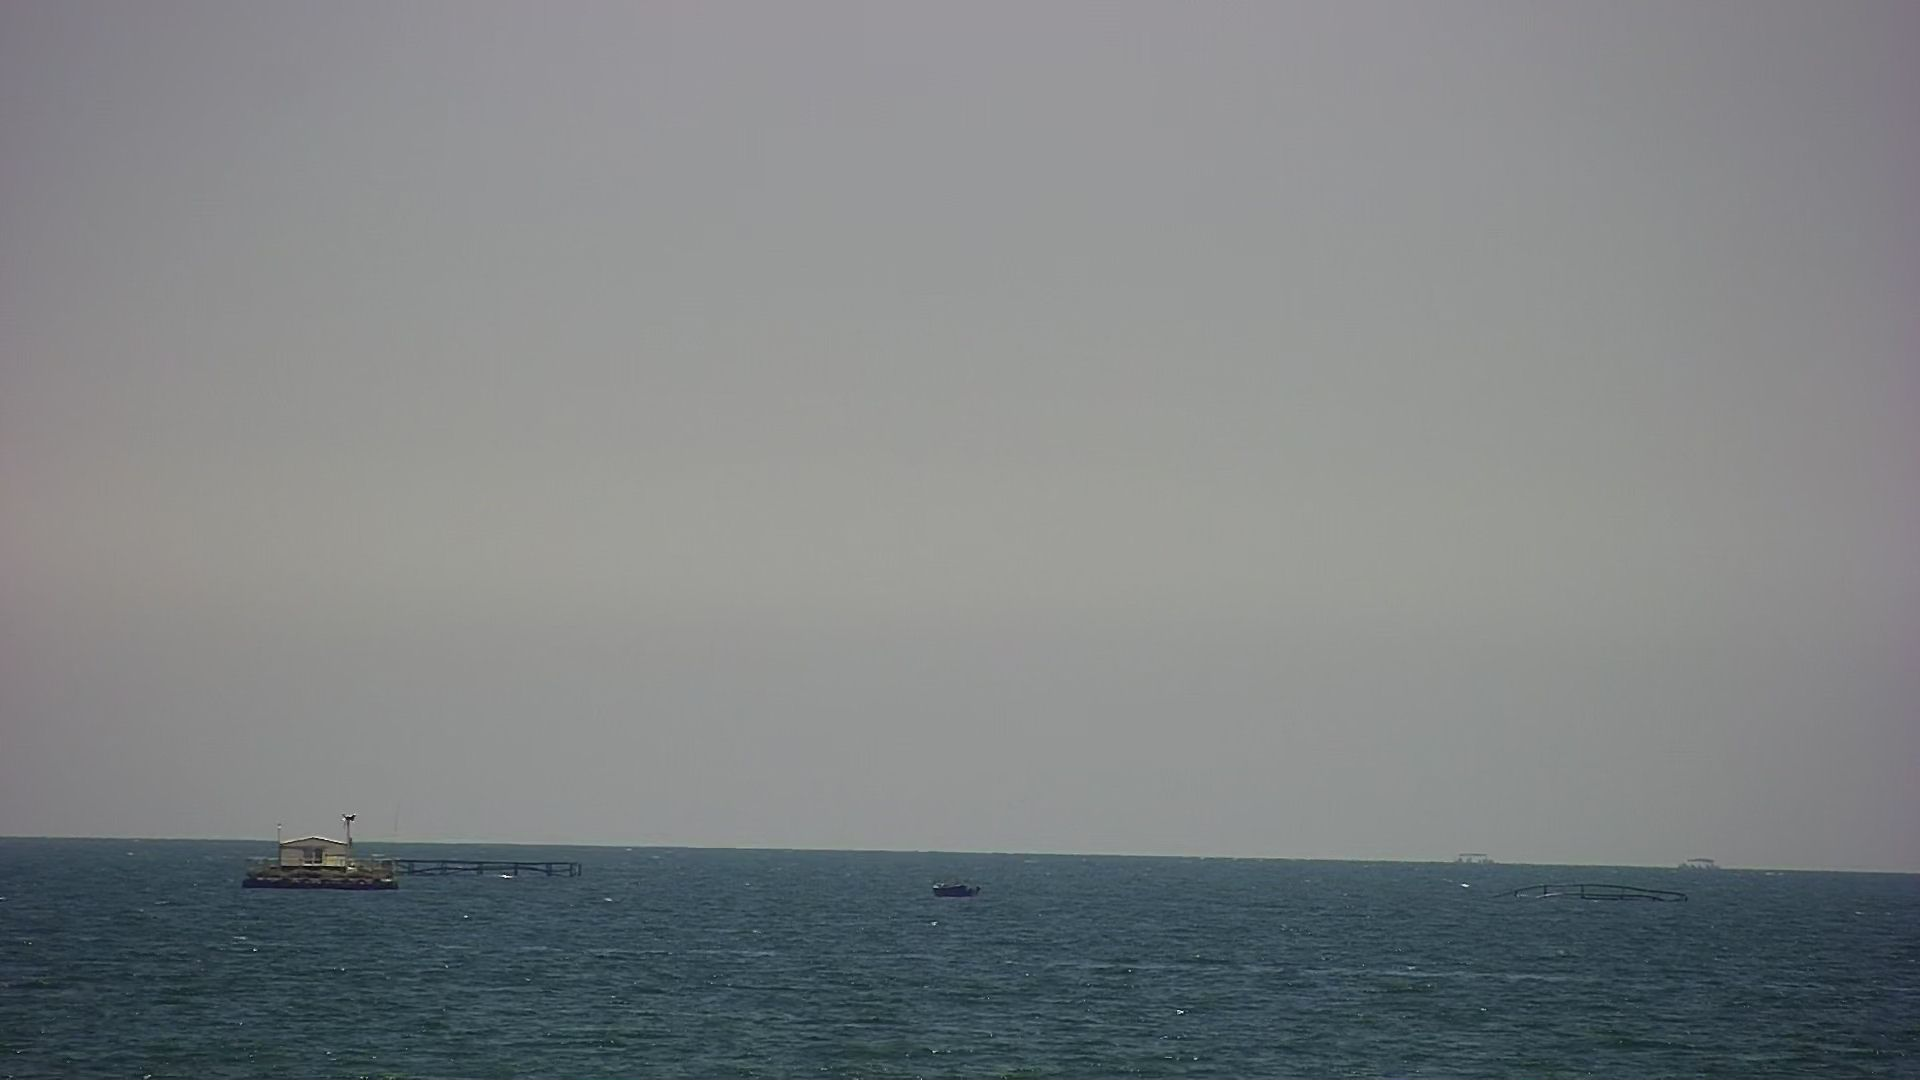boat: (910, 877, 996, 909)
platform: (232, 818, 404, 895), (373, 835, 593, 885), (1489, 874, 1698, 919), (1667, 841, 1739, 877), (1436, 844, 1513, 868)
